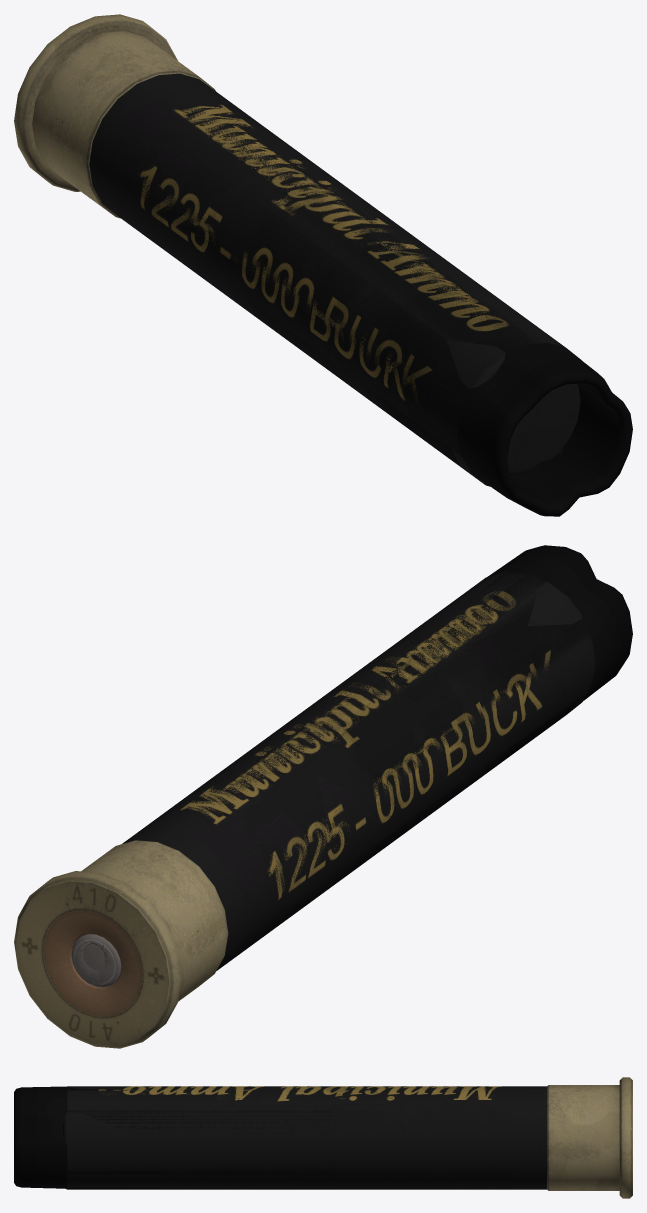
File: Ammo_410bore_00Buckshot (merge).fbx
The picture shows the model from 3 angles, top to bottom: view 1: azimuth 30°, elevation 25°; view 2: azimuth 150°, elevation 25°; view 3: azimuth 270°, elevation 25°; orthographic projection. The views are drawn at different scales.
Parts seen in each view (by area): view 1: Shell_12gauge_2_fired, Shell_12gauge_2_unfired; view 2: Shell_12gauge_2_fired, Shell_12gauge_2_unfired; view 3: Shell_12gauge_2_unfired, Shell_12gauge_2_fired.
Part boxes in pixels (left/top/right/bottom): Shell_12gauge_2_fired: left=14, top=14, right=632, bottom=516; Shell_12gauge_2_unfired: left=17, top=15, right=581, bottom=486; Shell_12gauge_2_fired: left=16, top=545, right=632, bottom=1048; Shell_12gauge_2_unfired: left=14, top=572, right=595, bottom=1048; Shell_12gauge_2_unfired: left=62, top=1080, right=632, bottom=1198; Shell_12gauge_2_fired: left=14, top=1077, right=632, bottom=1195.
Size of the model in its own units: 0.0136 by 0.0136 by 0.0689.
